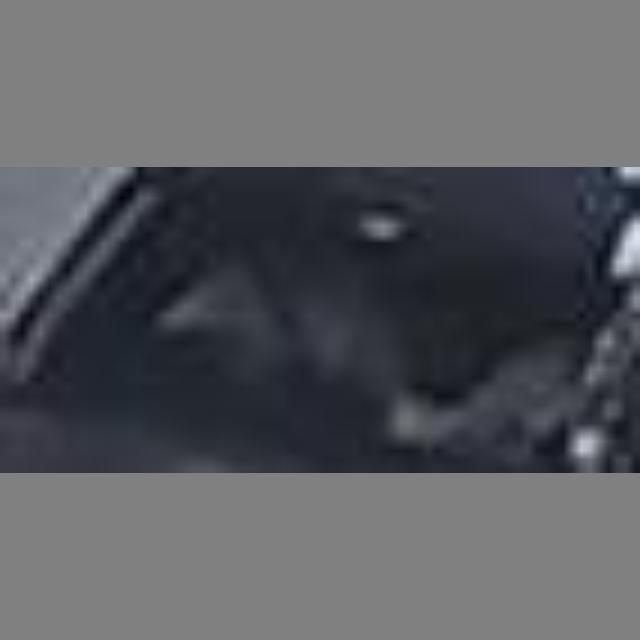pakai: (171, 221, 397, 401)
